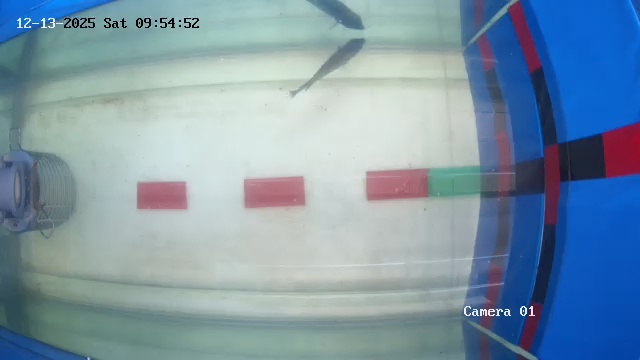fish: (297, 32, 383, 108)
